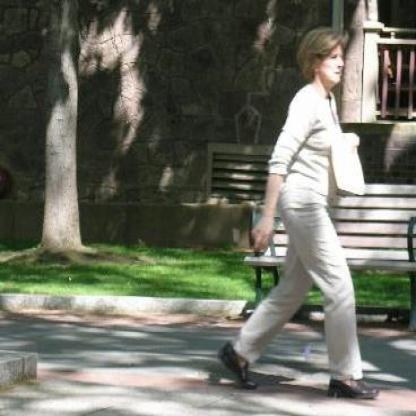person: (230, 29, 385, 404)
